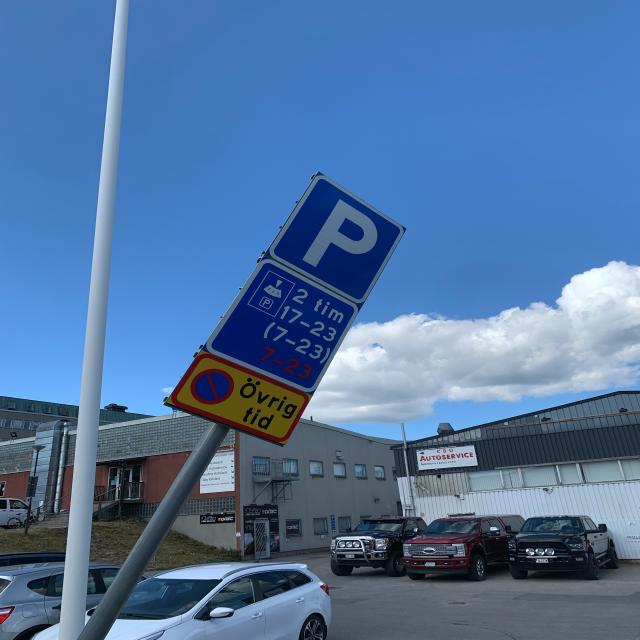psign: (264, 170, 406, 306)
